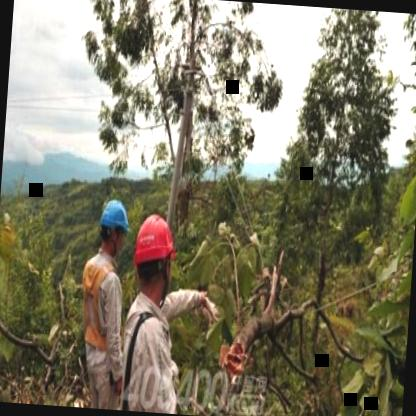helmet: (130, 207, 181, 304), (96, 198, 132, 260)
